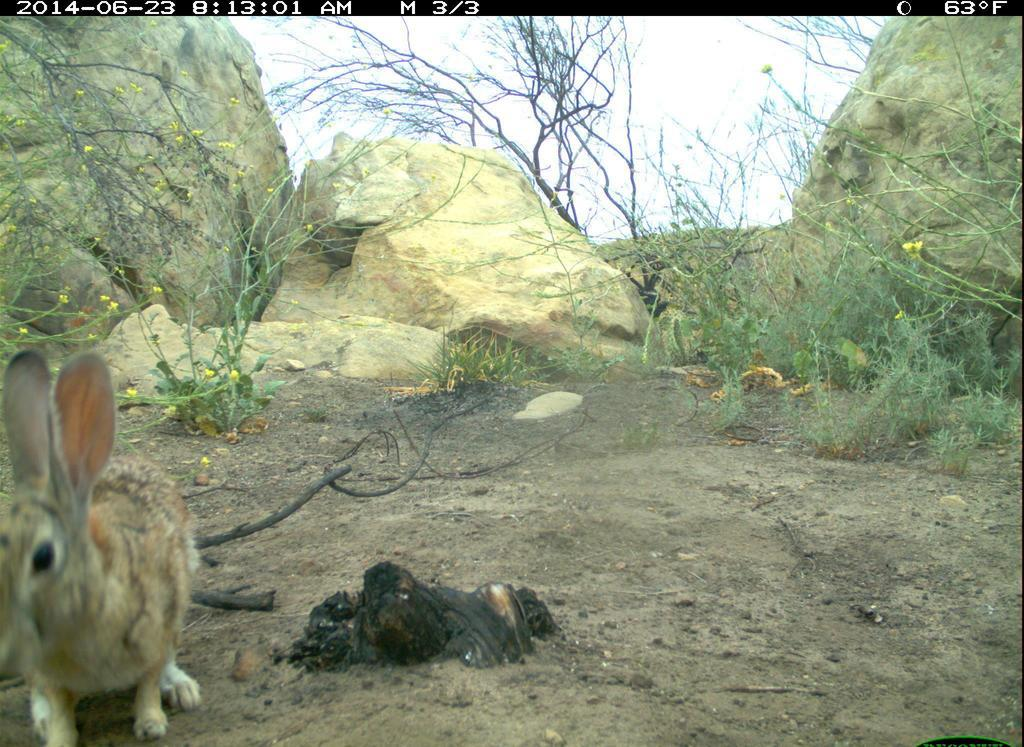rabbit: (1, 340, 219, 747)
